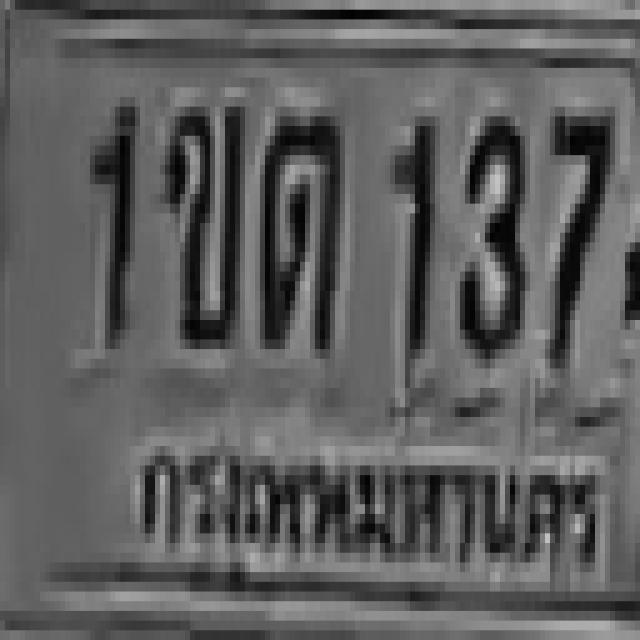1: (88, 97, 132, 339), (388, 107, 432, 349)
11KhorKhai: (160, 97, 240, 339)
3: (455, 107, 520, 349)
30TorTao: (255, 102, 340, 344)
4: (620, 102, 640, 364)
7: (545, 106, 610, 358)
Bangkok: (126, 413, 615, 592)
